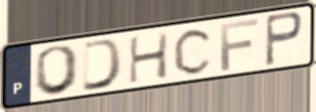C: (172, 26, 216, 77)
D: (80, 37, 126, 94)
F: (218, 16, 261, 73)
H: (127, 29, 171, 86)
O: (33, 44, 83, 98)
P: (263, 9, 306, 68)
